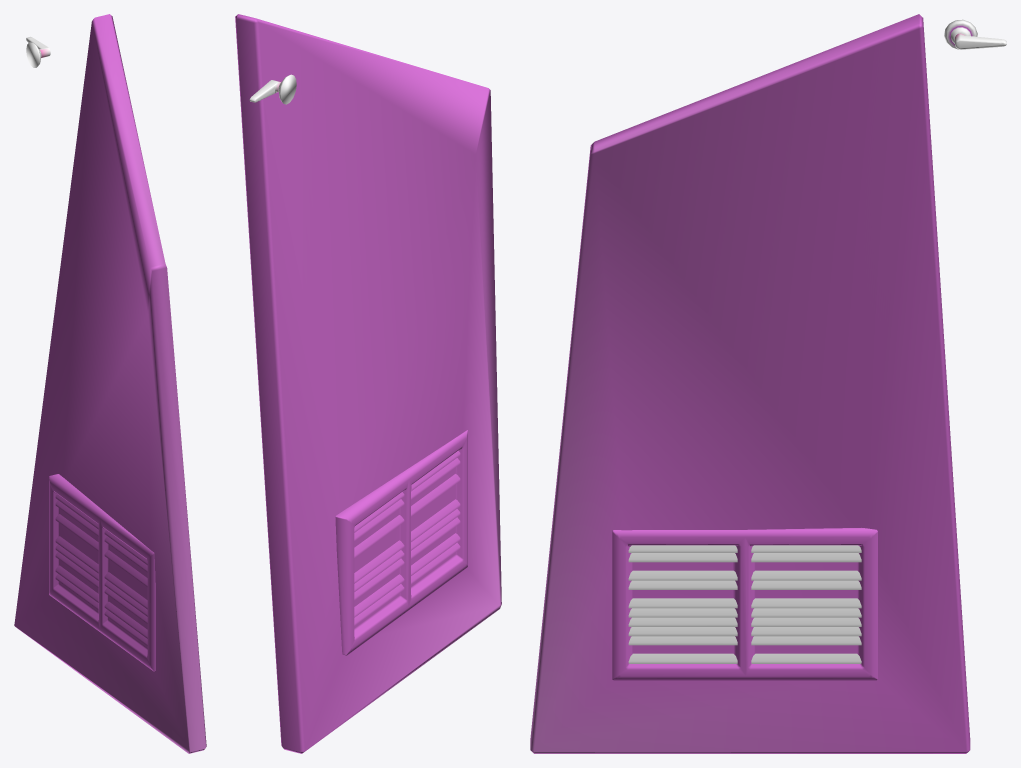
Rendered from DoorBasementWrist.fbx.
3 views of the same model, side by side, from view 1: azimuth 30°, elevation 25°; view 2: azimuth 150°, elevation 25°; view 3: azimuth 270°, elevation 25° (orthographic). The views are drawn at different scales.
Visible parts, largest first — view 1: SM_Door_Basement_A, SM_Door_Basement_A.001; view 2: SM_Door_Basement_A, SM_Door_Basement_A.001; view 3: SM_Door_Basement_A, SM_Door_Basement_A.001.
Part boxes in pixels (bbox=[...]): SM_Door_Basement_A: bbox=[14, 14, 206, 753]; SM_Door_Basement_A.001: bbox=[26, 37, 50, 67]; SM_Door_Basement_A: bbox=[235, 14, 501, 753]; SM_Door_Basement_A.001: bbox=[249, 74, 296, 104]; SM_Door_Basement_A: bbox=[530, 14, 970, 753]; SM_Door_Basement_A.001: bbox=[944, 19, 1006, 49].
Size of the model in its own units: 28.28 by 181 by 102.
